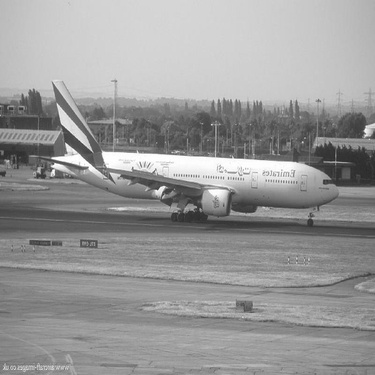airplane: (28, 75, 341, 243)
